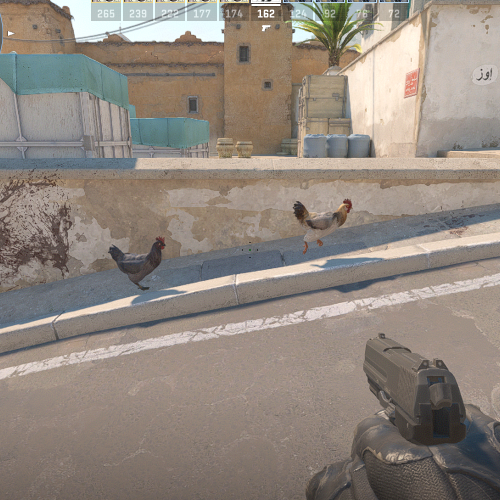chicken: (291, 198, 351, 255), (109, 235, 166, 292)
